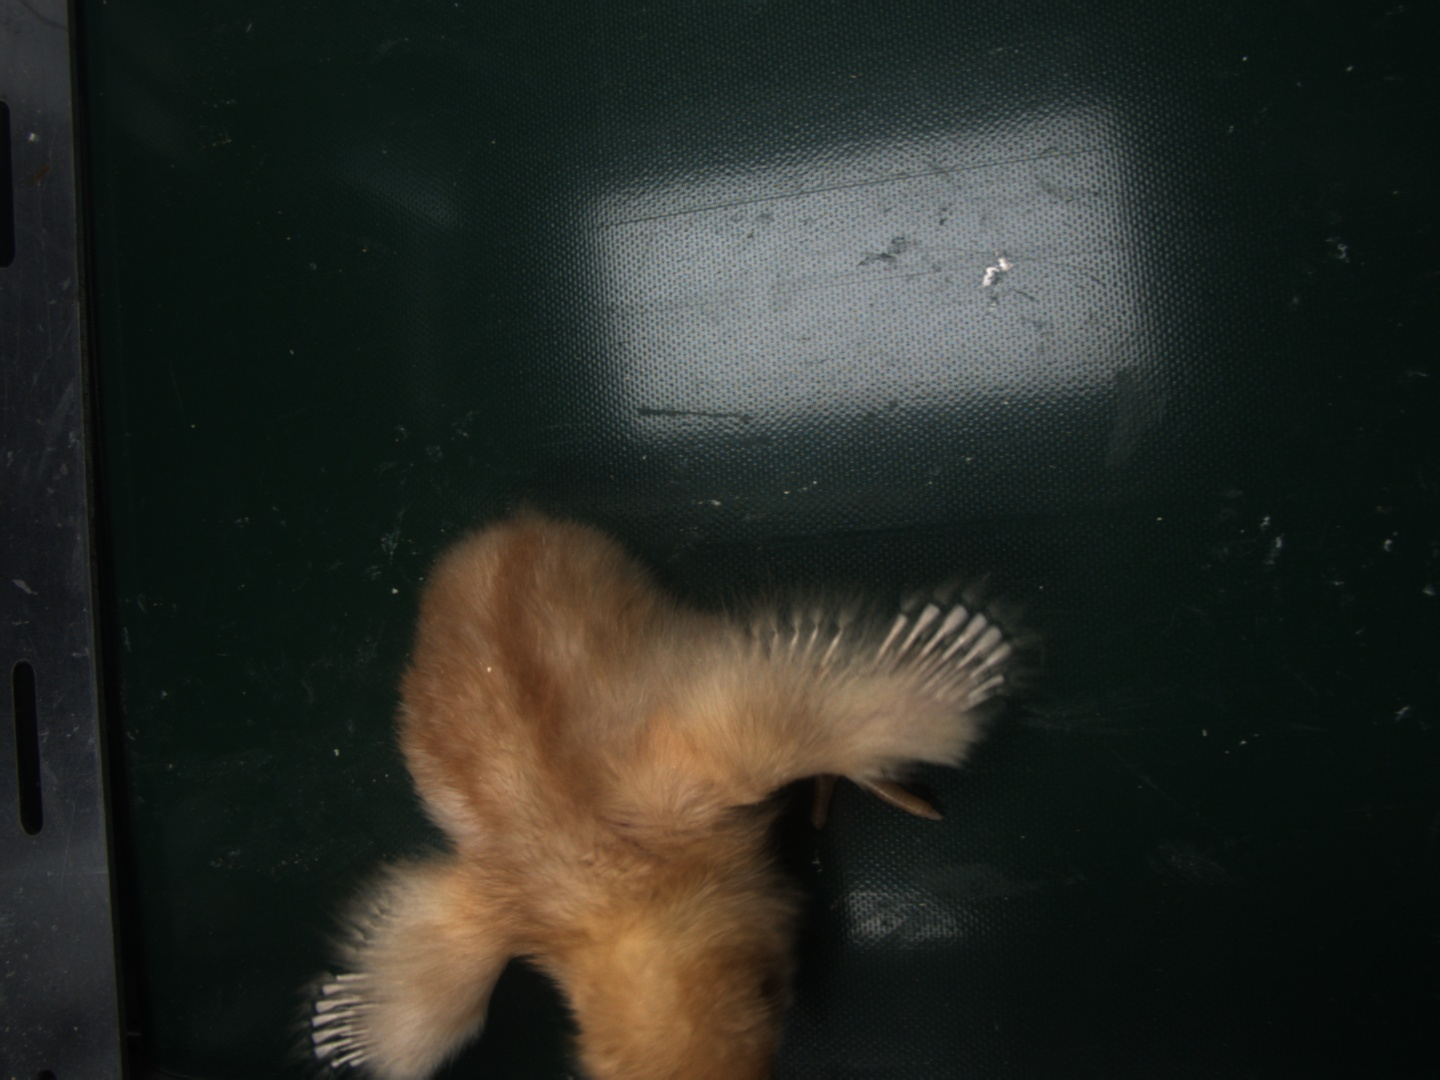female: (875, 600, 1011, 708), (310, 969, 398, 1069)
